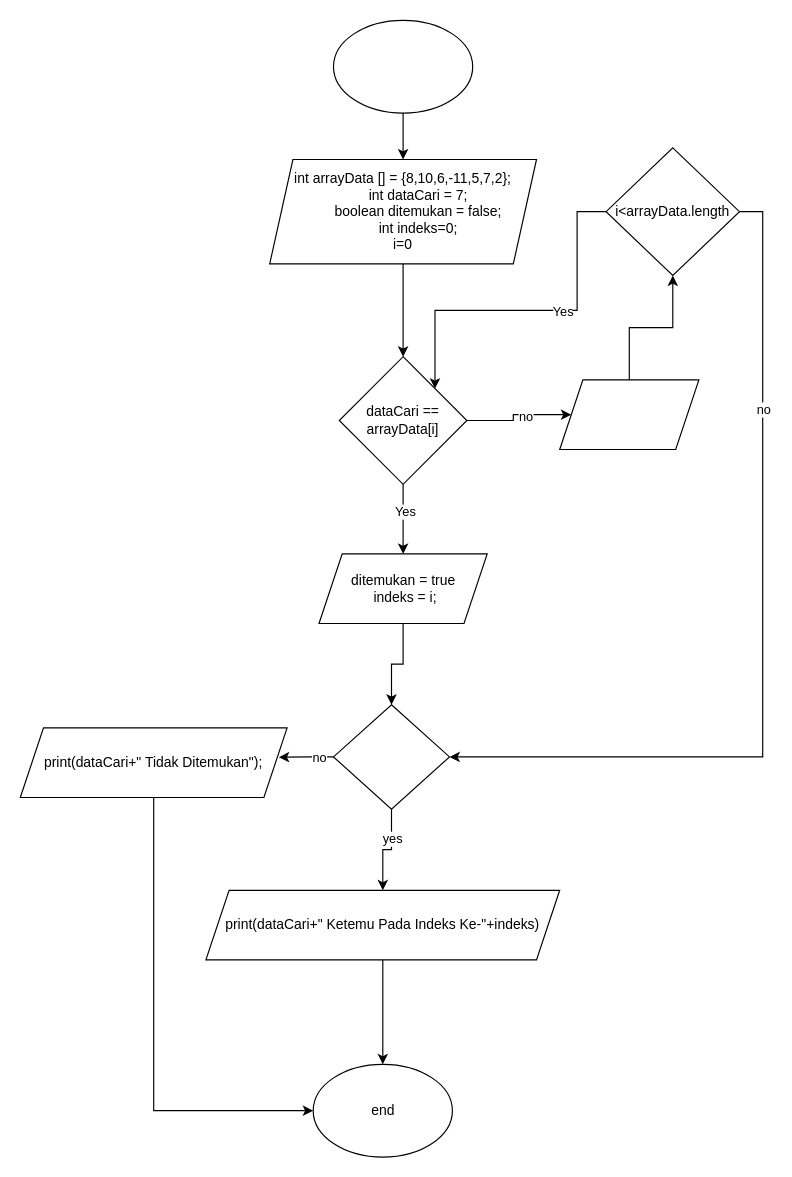
This 792x1177 diagram has some shape labels left out. Here are the shapes that lost their labels. From the top down, the centre of each, then its label:
At point (402, 66): "start".
At point (629, 414): "i++".
At point (390, 756): "ditemukan = true".
